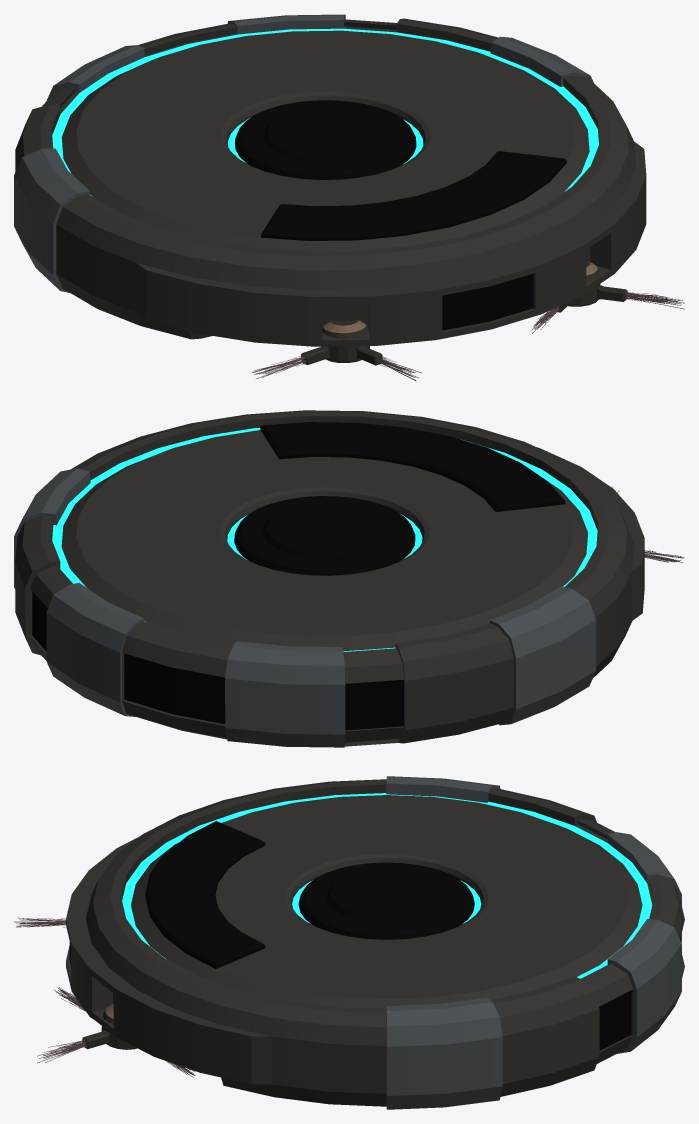
The model's file is roomba_lowpoly.fbx.
3 renders of one model, top to bottom at view 1: azimuth 30°, elevation 25°; view 2: azimuth 150°, elevation 25°; view 3: azimuth 270°, elevation 25°, orthographic. The views are drawn at different scales.
Parts seen in each view (by area): view 1: body, Cylinder.001, Cylinder.003; view 2: body; view 3: body, Cylinder.003.
Part boxes in pixels (x1,y1,x2,y2): body: (14, 14, 646, 346); Cylinder.001: (301, 320, 382, 365); Cylinder.003: (554, 260, 627, 312); body: (14, 410, 644, 747); body: (66, 776, 684, 1109); Cylinder.003: (82, 1004, 137, 1049).
Bounding box in the file's own units: 202 × 42.74 × 223.
